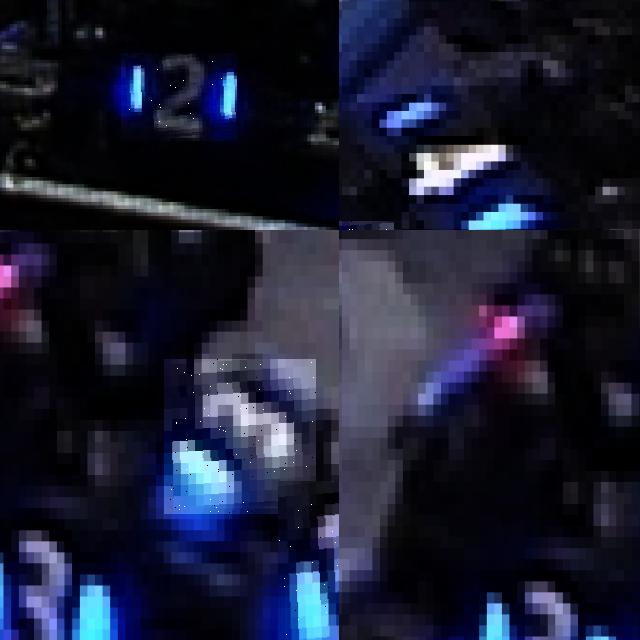B2: (121, 53, 237, 141)
B3: (164, 359, 316, 514), (0, 497, 125, 640), (456, 548, 631, 640), (277, 480, 339, 640)
